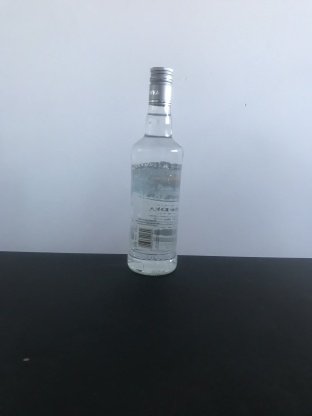nakretka: (147, 64, 174, 107)
